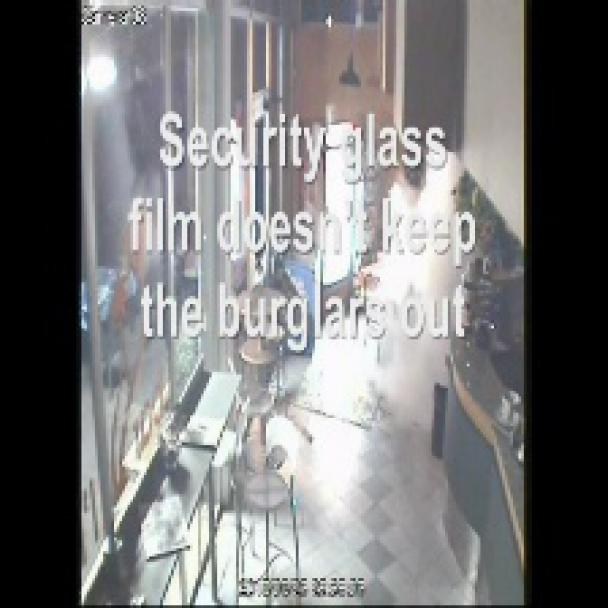smoke: (347, 135, 477, 398)
